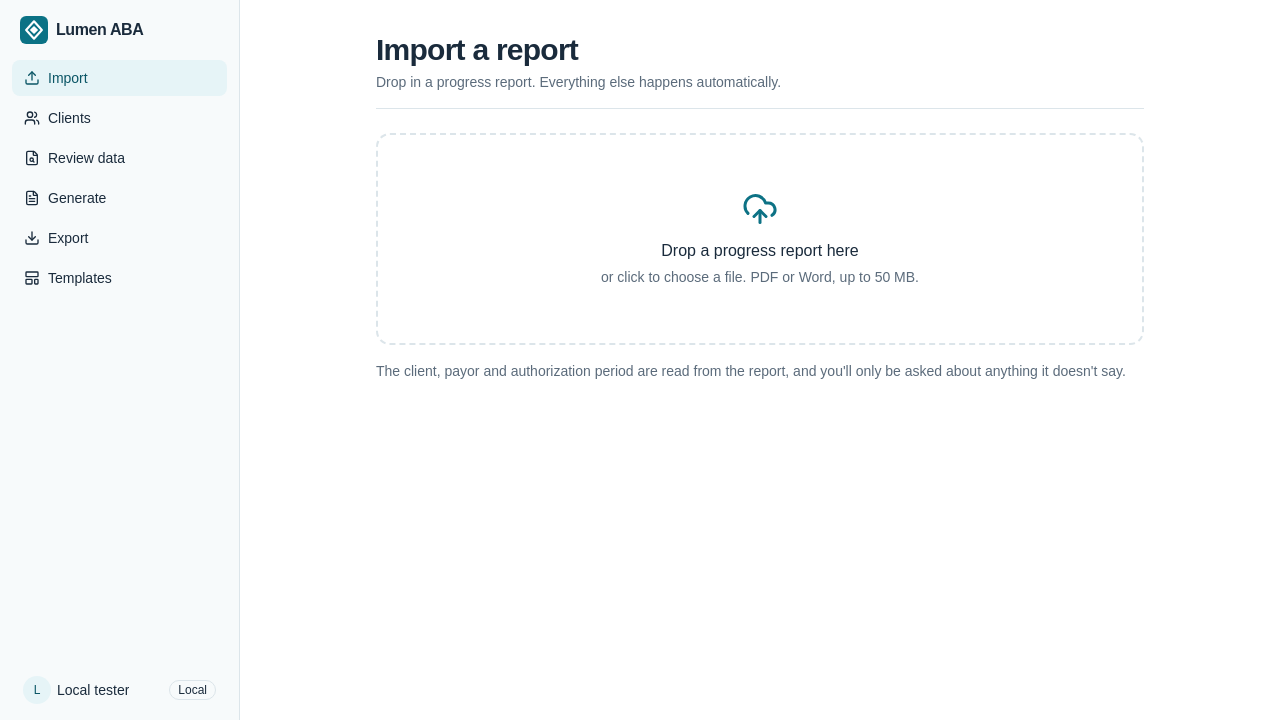
App › goes straight in when sign-in is skipped locally, and says so
Check: the heading "Import a report" is shown, box [376, 33, 578, 66]
Check: the icon "Local" is shown, box [169, 680, 216, 700]
Click the button "L Local tester Local" at (120, 690), box [12, 672, 227, 708]
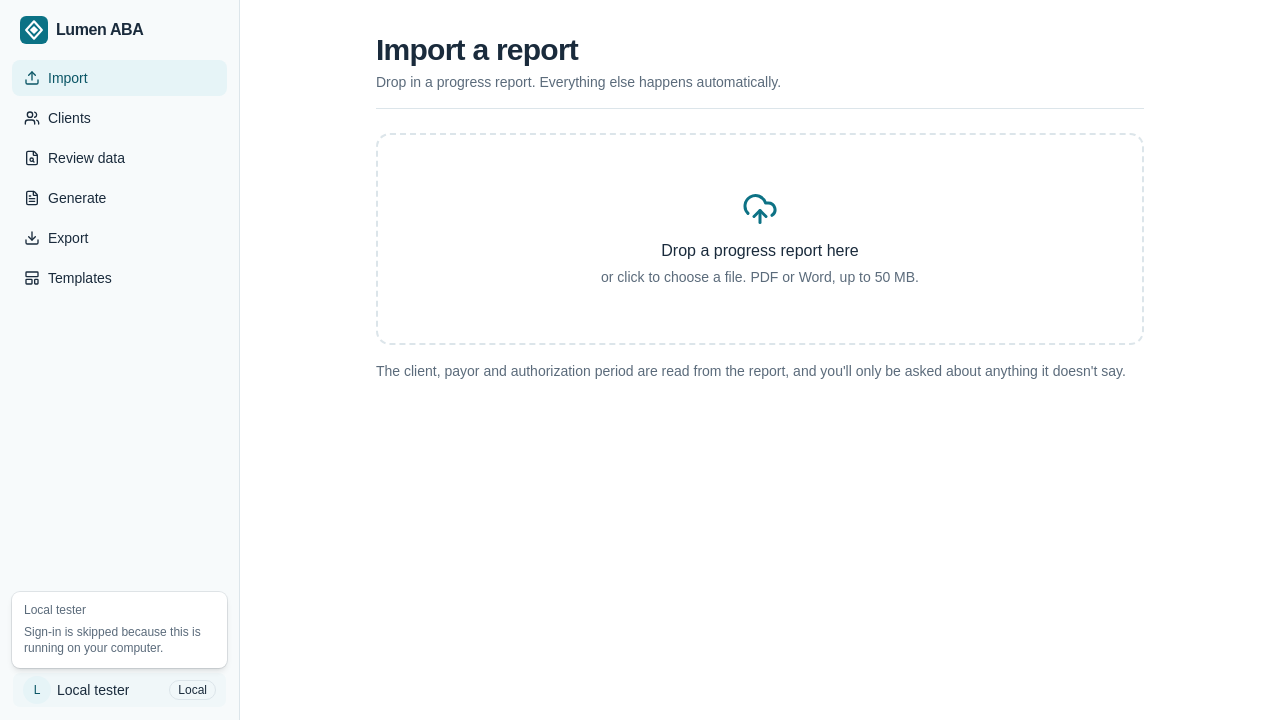
Check: the text "Sign-in is skipped because this is running on your computer." is shown, box [16, 624, 223, 664]
